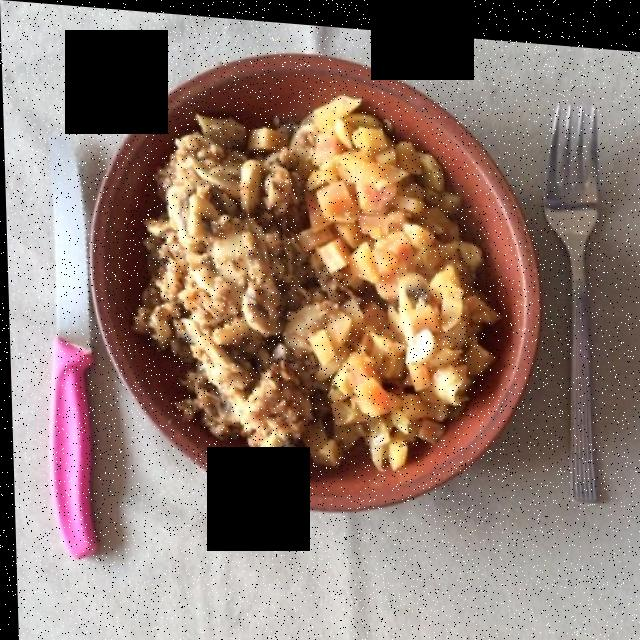buckwheat-grain-peeled: (137, 117, 355, 465)
mixed-vegetables: (289, 89, 488, 466)
mushroom: (185, 119, 295, 467)
